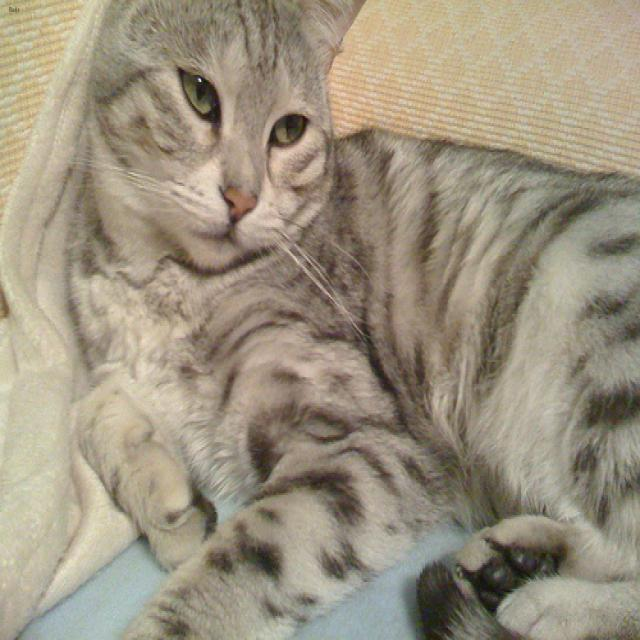Egyptian_Mau: (78, 0, 351, 279)
